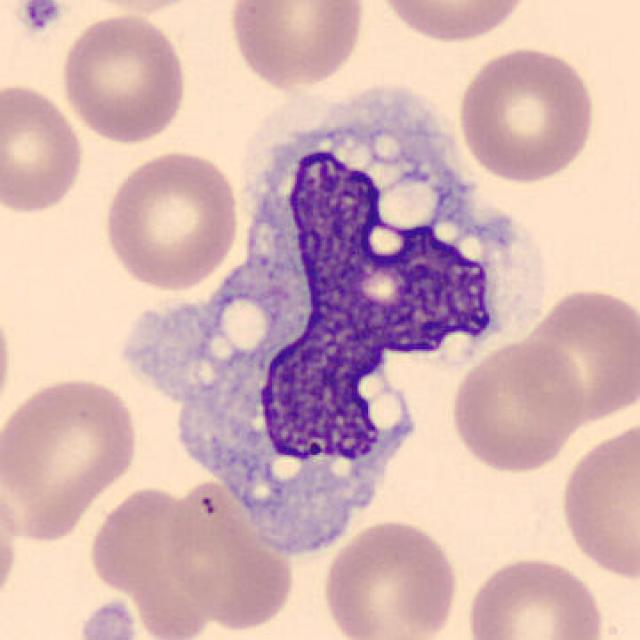Monocyte: (125, 78, 538, 557)
Platelets: (76, 597, 142, 640), (16, 0, 66, 35)
RBC: (0, 372, 144, 547), (158, 476, 300, 633), (100, 146, 242, 293), (455, 42, 597, 185), (83, 482, 217, 630), (446, 337, 587, 476), (57, 10, 190, 146), (320, 516, 462, 640), (520, 287, 638, 424), (555, 414, 638, 584), (224, 0, 370, 92), (462, 552, 608, 640), (0, 79, 87, 217), (371, 0, 537, 46), (0, 473, 23, 617), (0, 289, 16, 436), (66, 0, 210, 16)
